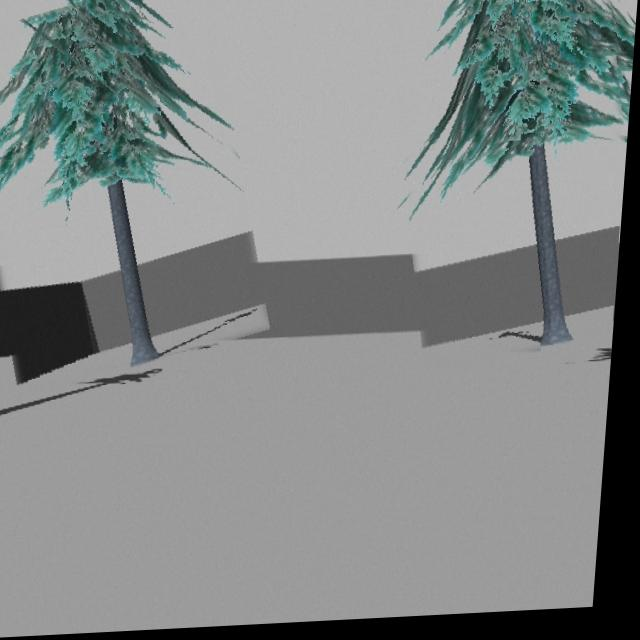tree: (0, 0, 242, 370), (410, 0, 627, 353)
